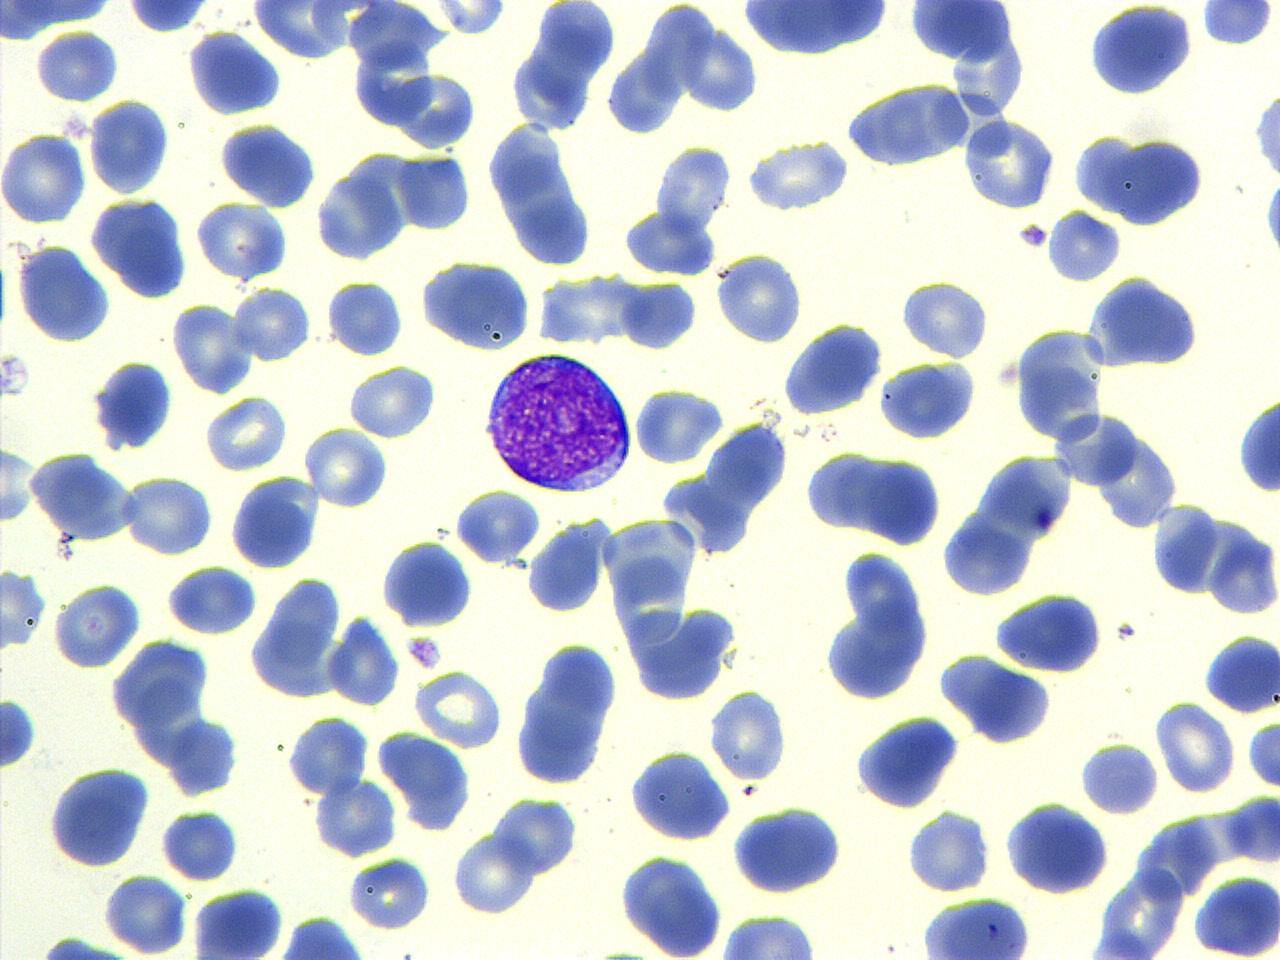Platelets: (0, 566, 49, 654), (1199, 2, 1273, 49), (0, 696, 40, 773), (1261, 173, 1280, 260), (405, 632, 443, 671), (0, 352, 29, 400), (1016, 222, 1050, 251), (596, 943, 647, 960)
RBC: (618, 601, 742, 706), (30, 448, 141, 546), (959, 116, 1058, 213), (1095, 862, 1187, 960), (49, 579, 146, 670), (714, 250, 805, 345), (0, 128, 86, 227), (449, 825, 536, 918), (352, 34, 436, 130), (171, 298, 252, 396), (410, 666, 504, 750), (1152, 700, 1236, 794), (630, 384, 726, 466), (524, 518, 606, 614), (899, 276, 990, 362), (193, 198, 289, 279), (123, 472, 215, 556), (862, 453, 945, 546), (681, 21, 760, 117), (286, 711, 372, 797), (102, 872, 189, 956), (451, 486, 542, 566), (325, 614, 402, 708), (303, 426, 388, 509), (202, 392, 288, 473), (1153, 498, 1221, 600), (33, 26, 120, 105), (346, 854, 434, 932), (800, 448, 882, 531), (231, 285, 314, 366), (326, 276, 406, 357), (1209, 528, 1279, 620), (159, 805, 243, 881), (396, 148, 470, 234), (619, 277, 697, 353), (1226, 791, 1280, 866), (0, 442, 39, 528)
WBC: (479, 347, 637, 496), (113, 631, 248, 803), (937, 448, 1081, 596), (821, 544, 937, 706), (510, 637, 622, 788), (487, 118, 599, 264), (904, 0, 1033, 113), (247, 571, 350, 704), (842, 78, 974, 172), (1084, 272, 1204, 372), (617, 850, 727, 958), (45, 762, 155, 870), (418, 255, 535, 356), (1018, 319, 1110, 444), (88, 192, 193, 300), (730, 802, 848, 898), (852, 708, 962, 810), (1086, 1, 1198, 100), (1004, 797, 1113, 898), (941, 651, 1055, 746), (14, 239, 115, 346), (626, 745, 734, 845), (780, 318, 886, 418), (28, 448, 136, 542), (992, 588, 1107, 676), (378, 726, 474, 829), (214, 119, 320, 212), (733, 1, 895, 61), (226, 473, 324, 572), (313, 164, 408, 263), (960, 118, 1059, 213), (182, 27, 286, 117), (742, 134, 856, 216), (876, 356, 982, 444), (378, 536, 476, 631), (713, 248, 806, 347), (51, 578, 146, 670), (89, 94, 173, 196), (1114, 133, 1206, 226), (349, 36, 438, 132), (526, 512, 606, 618), (90, 356, 177, 452), (707, 684, 790, 784), (630, 384, 728, 467), (193, 196, 291, 278), (903, 806, 992, 896), (450, 826, 538, 917), (916, 893, 1035, 960), (862, 452, 944, 549), (896, 275, 989, 360), (654, 140, 734, 238), (346, 359, 440, 442), (1191, 871, 1279, 959), (492, 795, 582, 881), (451, 484, 543, 568), (310, 777, 401, 860), (326, 612, 402, 710), (104, 870, 192, 954), (286, 710, 370, 798), (620, 207, 724, 278), (188, 884, 287, 958), (1151, 500, 1223, 598), (347, 852, 432, 934), (32, 28, 122, 105), (164, 563, 256, 638), (233, 282, 314, 366), (1078, 736, 1160, 818), (803, 448, 881, 534), (1200, 630, 1278, 716), (326, 276, 406, 358), (1044, 206, 1124, 286), (620, 276, 700, 355), (159, 806, 242, 882), (712, 909, 828, 958), (0, 0, 124, 41), (265, 913, 375, 959), (1235, 391, 1280, 498), (0, 568, 50, 654), (1254, 63, 1280, 208), (115, 0, 220, 34), (0, 696, 40, 770), (1244, 716, 1280, 794)
